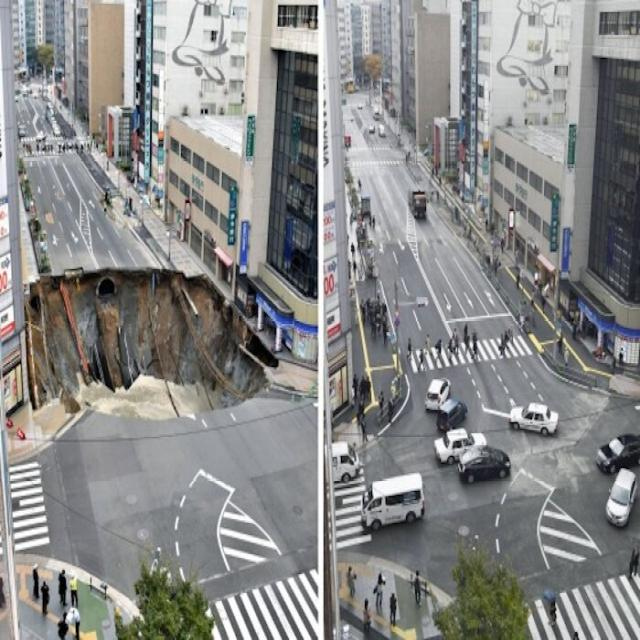Pothole: (16, 248, 287, 444)
